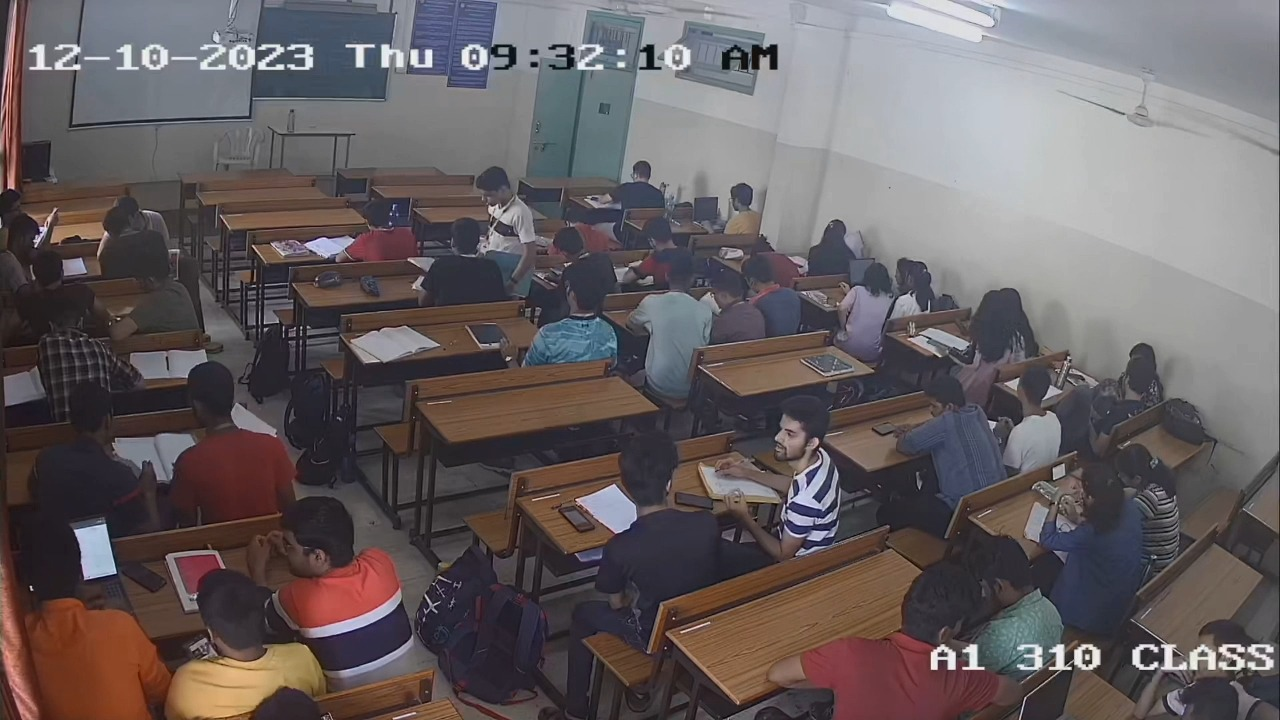cell-phones: (117, 557, 171, 595), (556, 503, 599, 535), (181, 629, 218, 664), (672, 488, 717, 511), (1048, 459, 1069, 483), (870, 419, 897, 437), (1068, 371, 1086, 381)
person: (19, 524, 172, 718), (589, 430, 726, 589), (166, 570, 310, 720), (722, 397, 844, 540), (894, 376, 1003, 483), (1037, 463, 1142, 560), (1091, 356, 1155, 419)
